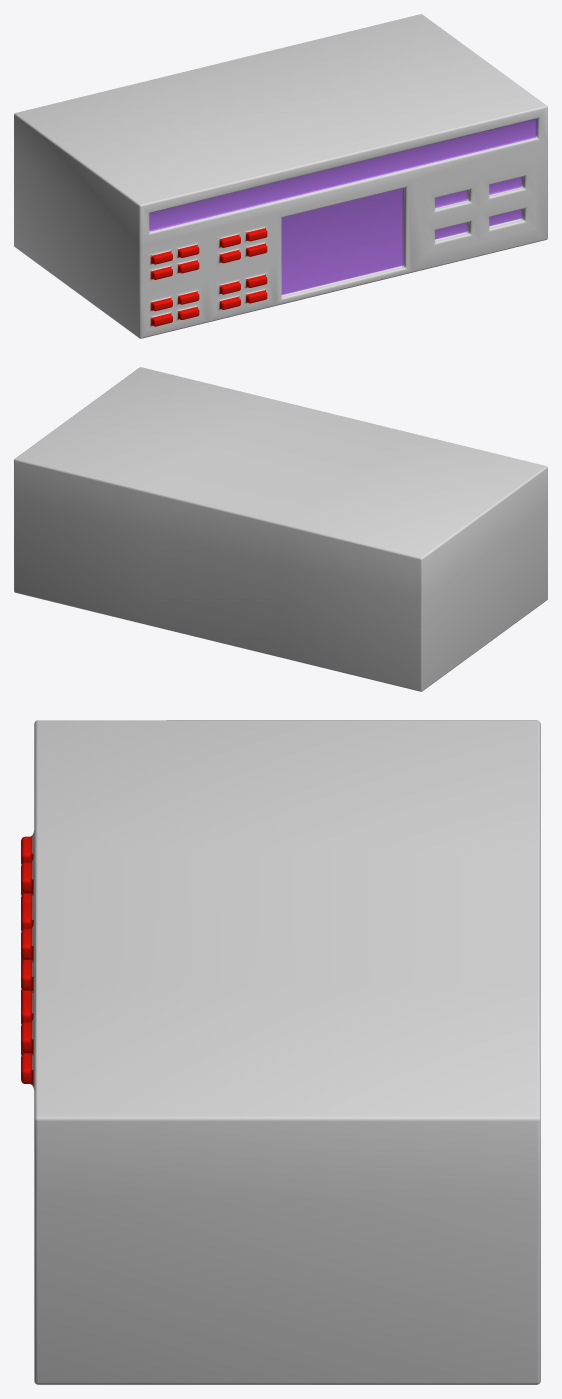
File: Radio.fbx
3 renders of one model, top to bottom at view 1: azimuth 30°, elevation 25°; view 2: azimuth 150°, elevation 25°; view 3: azimuth 270°, elevation 25°, orthographic. The views are drawn at different scales.
Parts seen in each view (by area): view 1: Radio; view 2: Radio; view 3: Radio.
Part boxes in pixels (bbox=[...]): Radio: bbox=[14, 14, 547, 338]; Radio: bbox=[14, 367, 547, 691]; Radio: bbox=[21, 720, 540, 1384].
Bounding box in the file's own units: 200 × 62.75 × 110.
